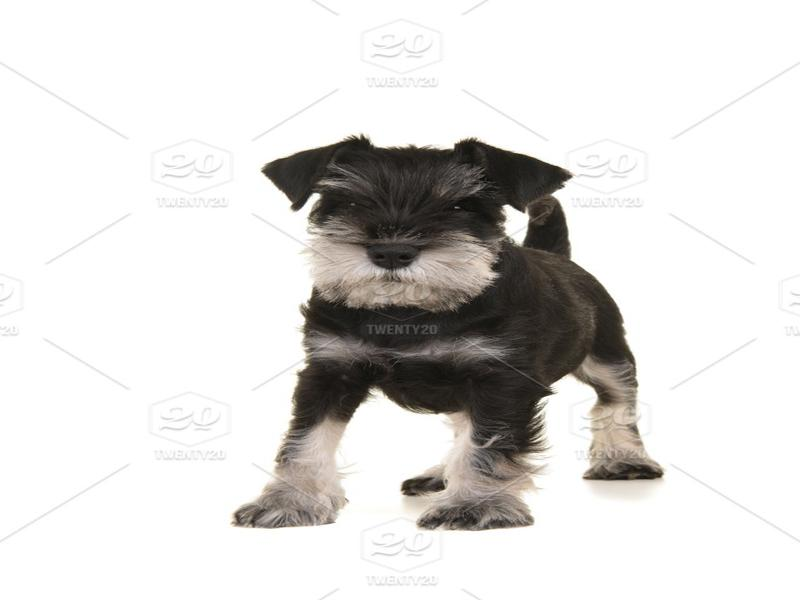dog_stand: (223, 128, 670, 535)
